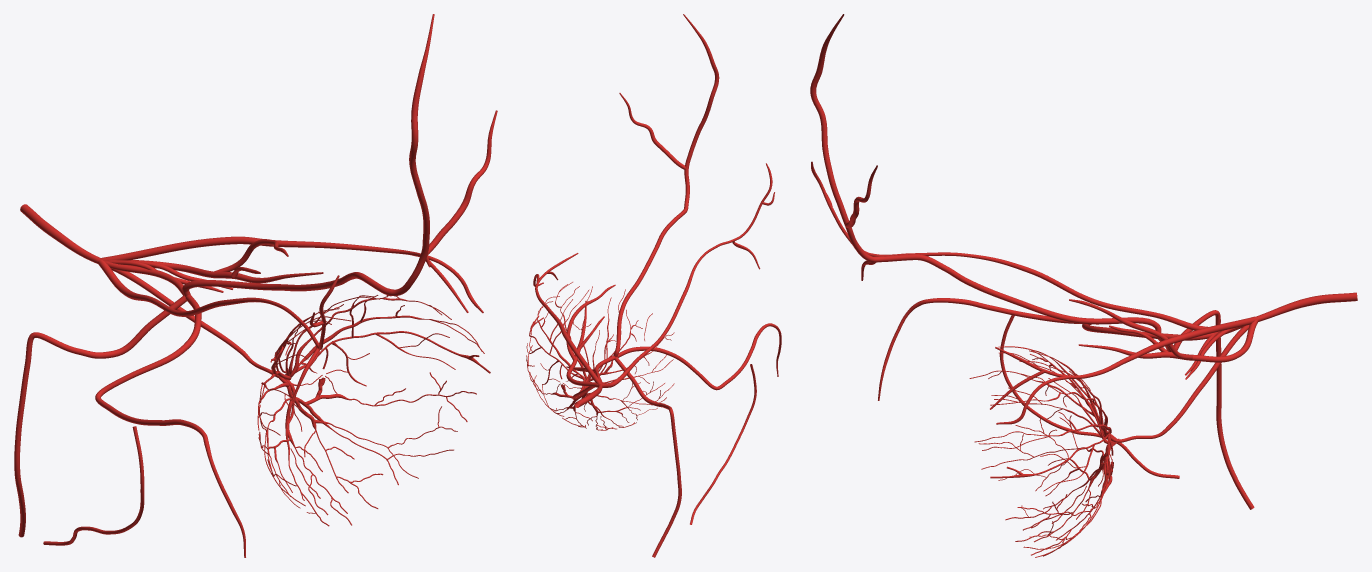
Rendered from circulatorio-ophthalmic-artery-l.glb.
3 renders of one model, left to right at view 1: azimuth 30°, elevation 25°; view 2: azimuth 150°, elevation 25°; view 3: azimuth 270°, elevation 25°, orthographic. The views are drawn at different scales.
Parts seen in each view (by area): view 1: Central retinal artery.l, Supra-orbital artery.l, Lacrimal artery.l, Supratrochlear artery.l, Anterior ethmoidal artery.l, Septal branches of posterior ethmoidal artery.l, Ophthalmic artery.l, Long posterior ciliary arteries.l, Anterior septal branches of anterior ethmoidal artery.l, Short posterior ciliary arteries.l, Posterior ethmoidal artery.l; view 2: Central retinal artery.l, Supra-orbital artery.l, Supratrochlear artery.l, Long posterior ciliary arteries.l, Lacrimal artery.l, Anterior ethmoidal artery.l, Septal branches of posterior ethmoidal artery.l, Ophthalmic artery.l, Anterior septal branches of anterior ethmoidal artery.l; view 3: Central retinal artery.l, Supra-orbital artery.l, Supratrochlear artery.l, Lacrimal artery.l, Long posterior ciliary arteries.l, Ophthalmic artery.l, Septal branches of posterior ethmoidal artery.l, Anterior ethmoidal artery.l, Anterior septal branches of anterior ethmoidal artery.l.
Part boxes in pixels (x1=…): Central retinal artery.l: x1=111, y1=268, x2=490, y2=526; Supra-orbital artery.l: x1=182, y1=14, x2=497, y2=296; Lacrimal artery.l: x1=100, y1=236, x2=483, y2=313; Supratrochlear artery.l: x1=98, y1=260, x2=339, y2=401; Anterior ethmoidal artery.l: x1=95, y1=344, x2=245, y2=557; Septal branches of posterior ethmoidal artery.l: x1=14, y1=332, x2=113, y2=537; Ophthalmic artery.l: x1=20, y1=204, x2=201, y2=348; Long posterior ciliary arteries.l: x1=131, y1=239, x2=323, y2=283; Anterior septal branches of anterior ethmoidal artery.l: x1=43, y1=426, x2=144, y2=545; Short posterior ciliary arteries.l: x1=108, y1=260, x2=233, y2=292; Posterior ethmoidal artery.l: x1=113, y1=295, x2=186, y2=357; Central retinal artery.l: x1=526, y1=282, x2=674, y2=430; Supra-orbital artery.l: x1=613, y1=14, x2=719, y2=357; Supratrochlear artery.l: x1=602, y1=163, x2=774, y2=387; Long posterior ciliary arteries.l: x1=566, y1=284, x2=615, y2=387; Lacrimal artery.l: x1=533, y1=253, x2=601, y2=384; Anterior ethmoidal artery.l: x1=666, y1=323, x2=781, y2=390; Septal branches of posterior ethmoidal artery.l: x1=649, y1=400, x2=681, y2=557; Ophthalmic artery.l: x1=574, y1=346, x2=666, y2=407; Anterior septal branches of anterior ethmoidal artery.l: x1=690, y1=364, x2=756, y2=524; Central retinal artery.l: x1=969, y1=325, x2=1249, y2=557; Supra-orbital artery.l: x1=810, y1=14, x2=1161, y2=332; Supratrochlear artery.l: x1=811, y1=161, x2=1207, y2=330; Lacrimal artery.l: x1=990, y1=316, x2=1257, y2=424; Long posterior ciliary arteries.l: x1=1069, y1=299, x2=1258, y2=362; Ophthalmic artery.l: x1=1085, y1=292, x2=1357, y2=340; Septal branches of posterior ethmoidal artery.l: x1=1173, y1=310, x2=1254, y2=509; Anterior ethmoidal artery.l: x1=878, y1=298, x2=1091, y2=400; Anterior septal branches of anterior ethmoidal artery.l: x1=999, y1=315, x2=1179, y2=478.
Size of the model in its own units: 0.0422 by 0.0746 by 0.0644.
